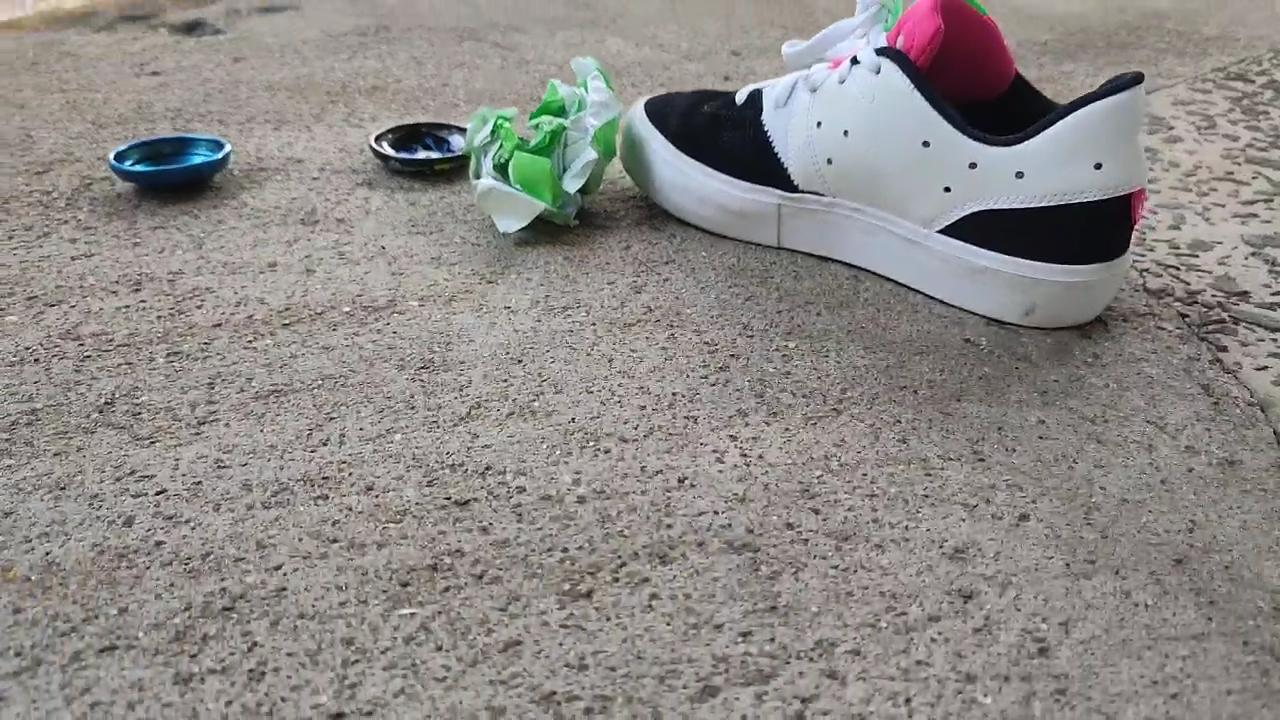Paper: (464, 25, 634, 242)
